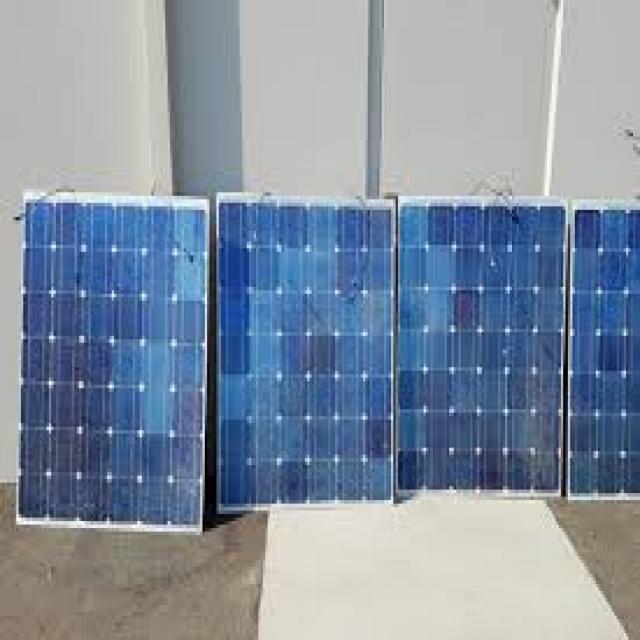faulty: (29, 198, 202, 540), (220, 200, 394, 499), (399, 198, 566, 506), (576, 203, 640, 507)
